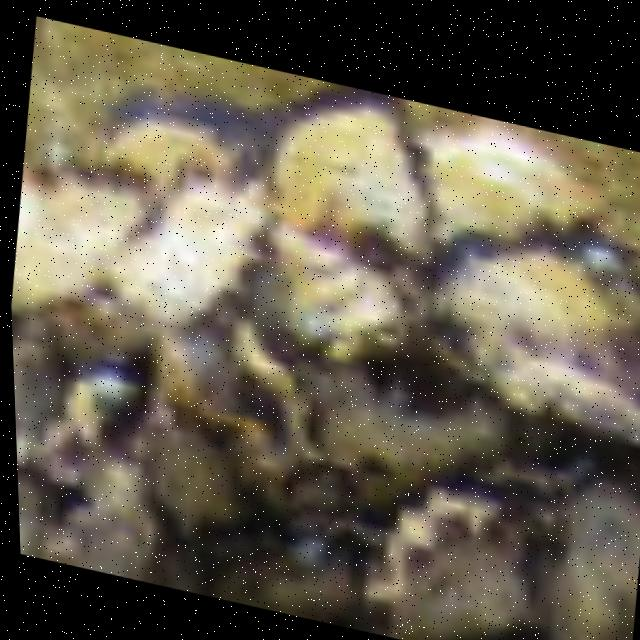Oyster-Closed: (261, 234, 429, 362), (206, 540, 359, 624)
Oyster-Indeterminate: (276, 105, 432, 265), (430, 254, 617, 372), (420, 126, 591, 238), (123, 184, 260, 319), (11, 181, 149, 314), (333, 402, 516, 496), (555, 479, 640, 640), (492, 354, 640, 440)
Oyster-Open: (368, 483, 536, 640)
